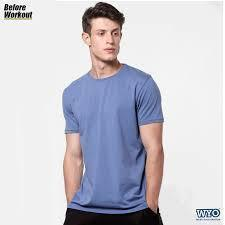Tshirt: (54, 60, 162, 215)
